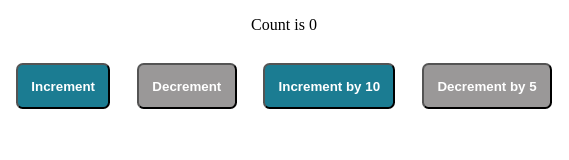
App Component › Should render App with count value as 10 when clicks increment by 10 button
Click the button "Increment by 10": [329, 86] box left=263, top=63, right=395, bottom=109
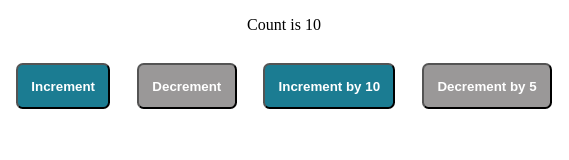
Expected: the text "Count is 10" is shown, left=247, top=16, right=321, bottom=33
